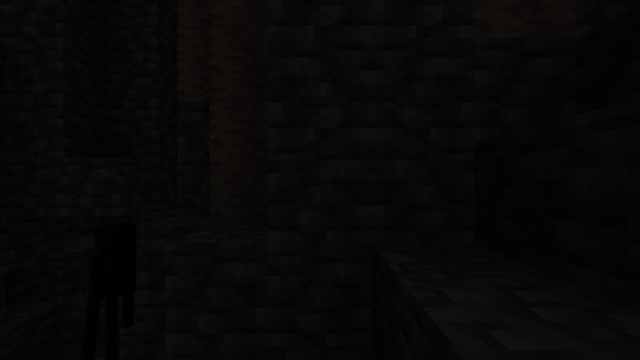endermens: (87, 218, 148, 356)
